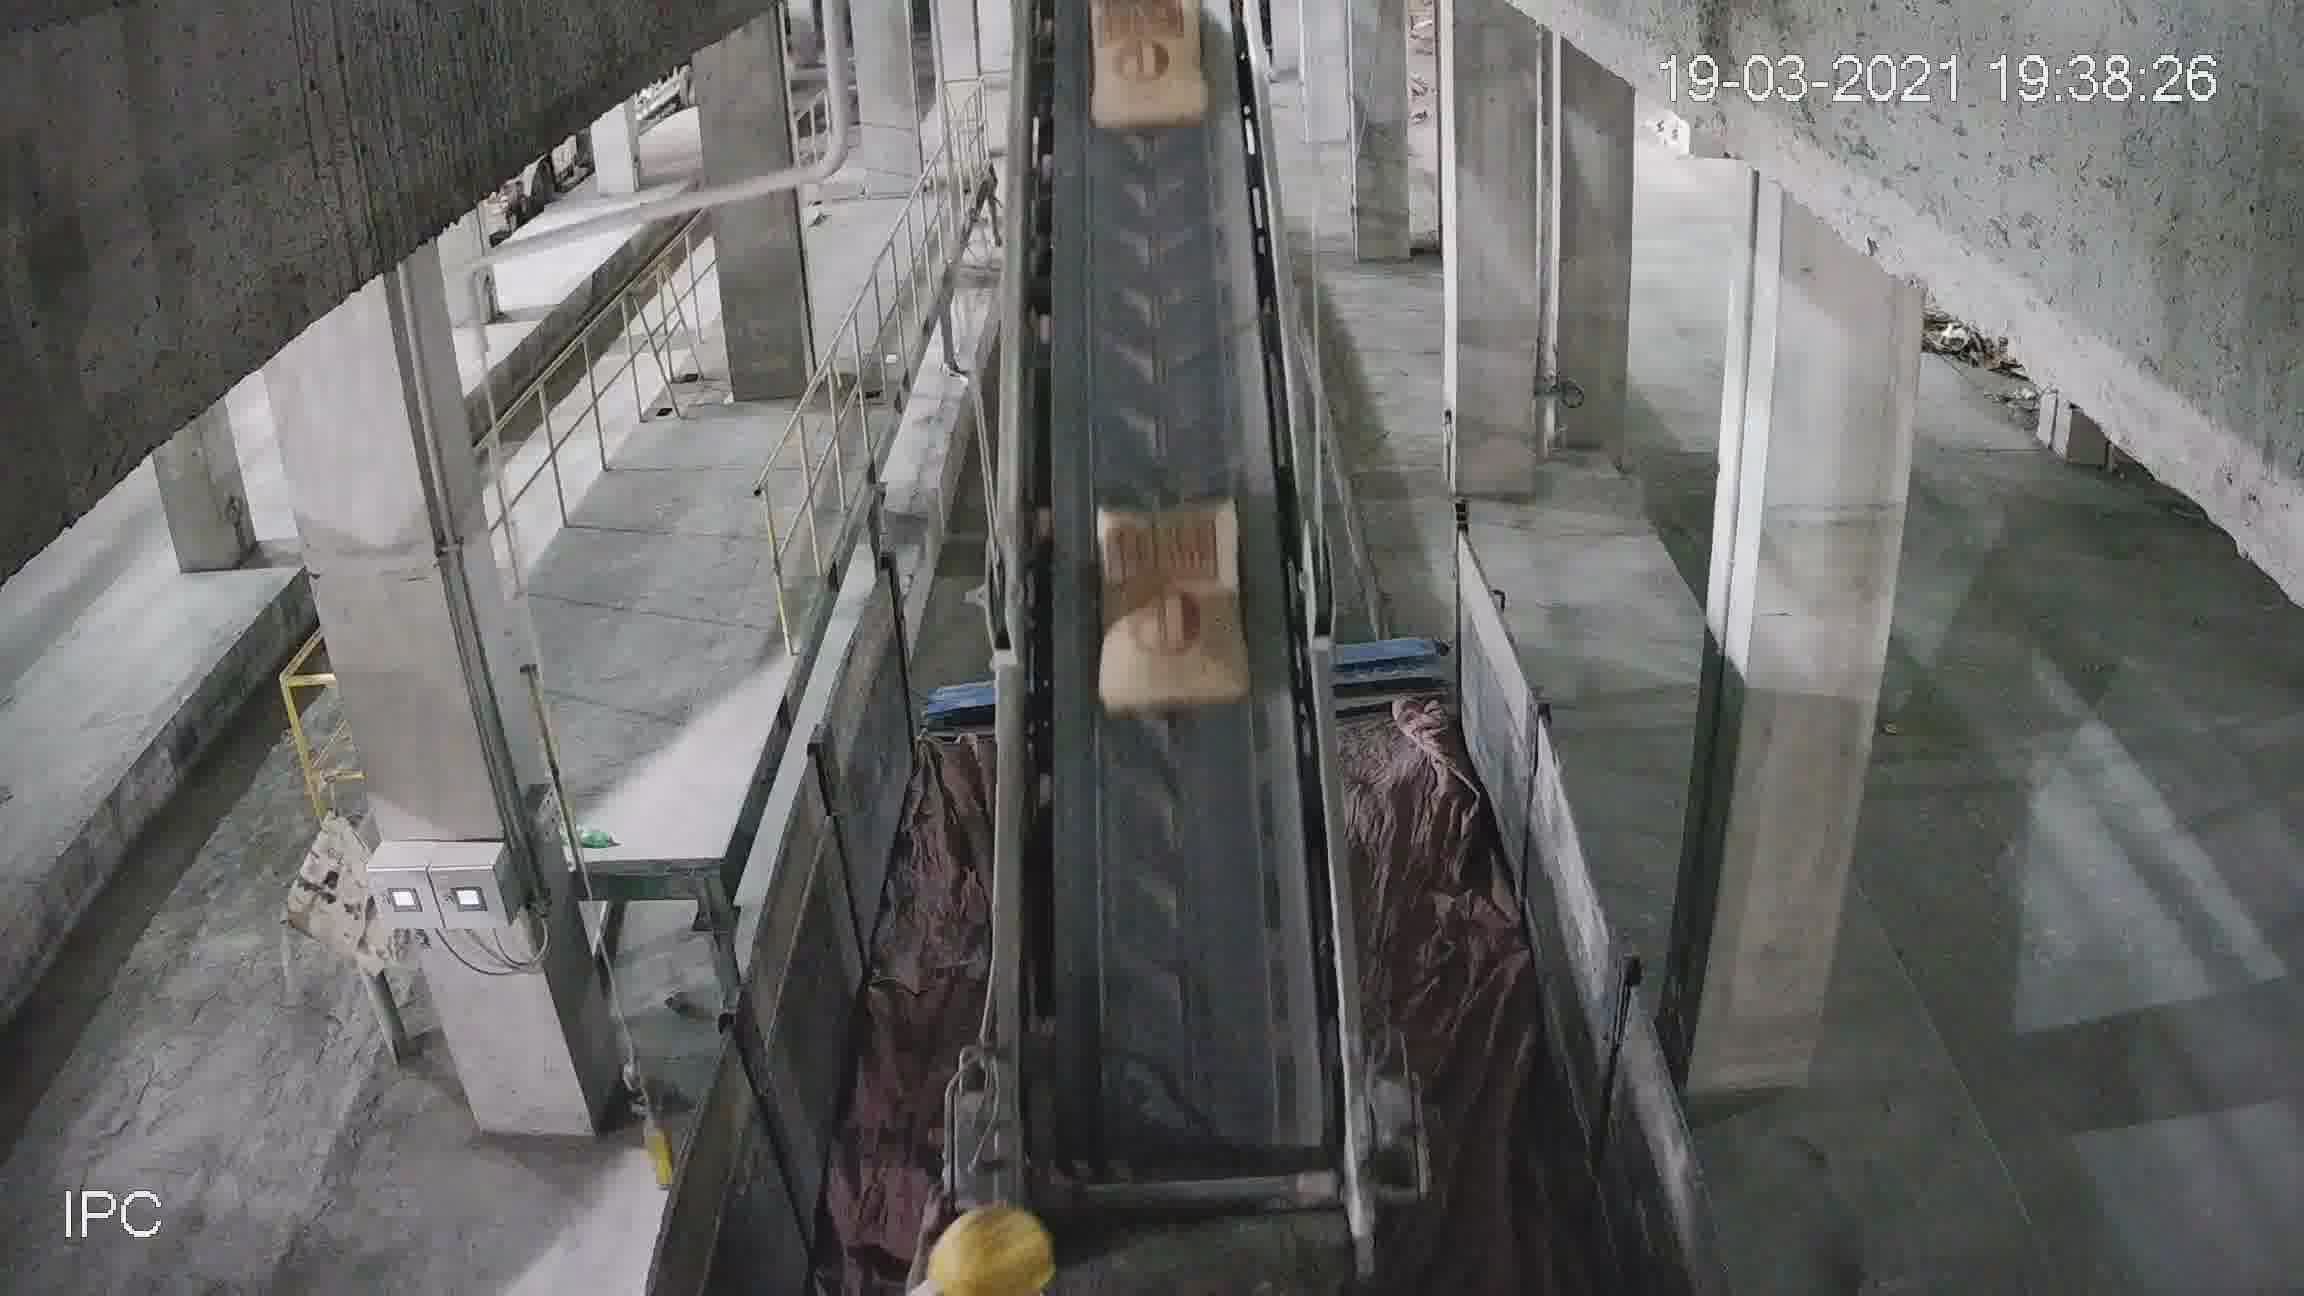bag: (1101, 532, 1247, 709), (1093, 17, 1207, 125)
belt: (1013, 81, 1343, 1150)
